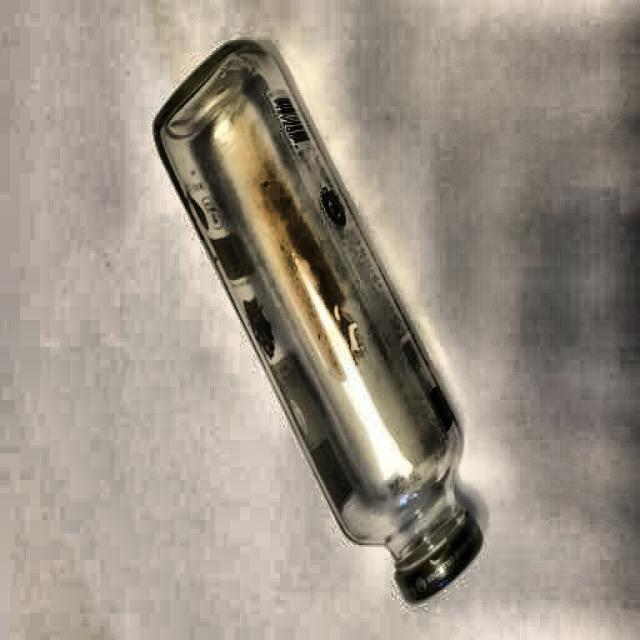glass: (152, 36, 492, 609)
